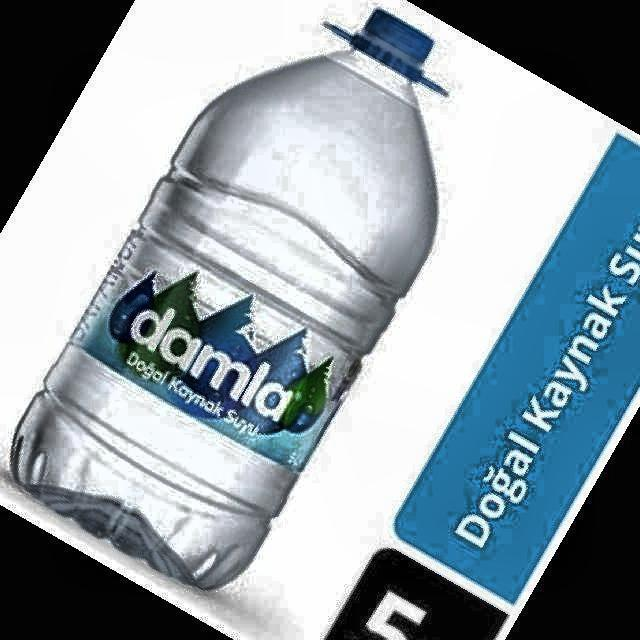plastic: (14, 10, 441, 589)
